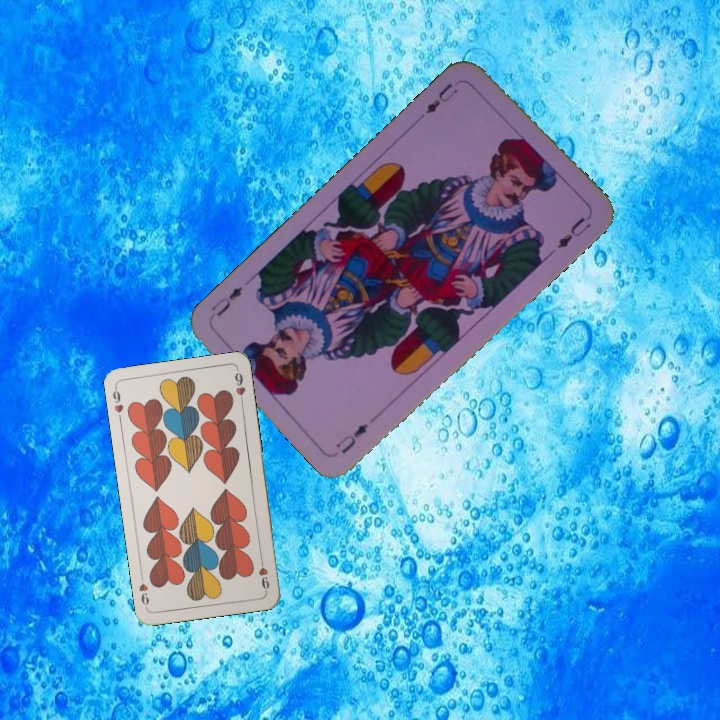EU: (421, 78, 461, 117), (331, 419, 371, 457)
H9: (254, 553, 272, 594), (108, 383, 126, 423)
